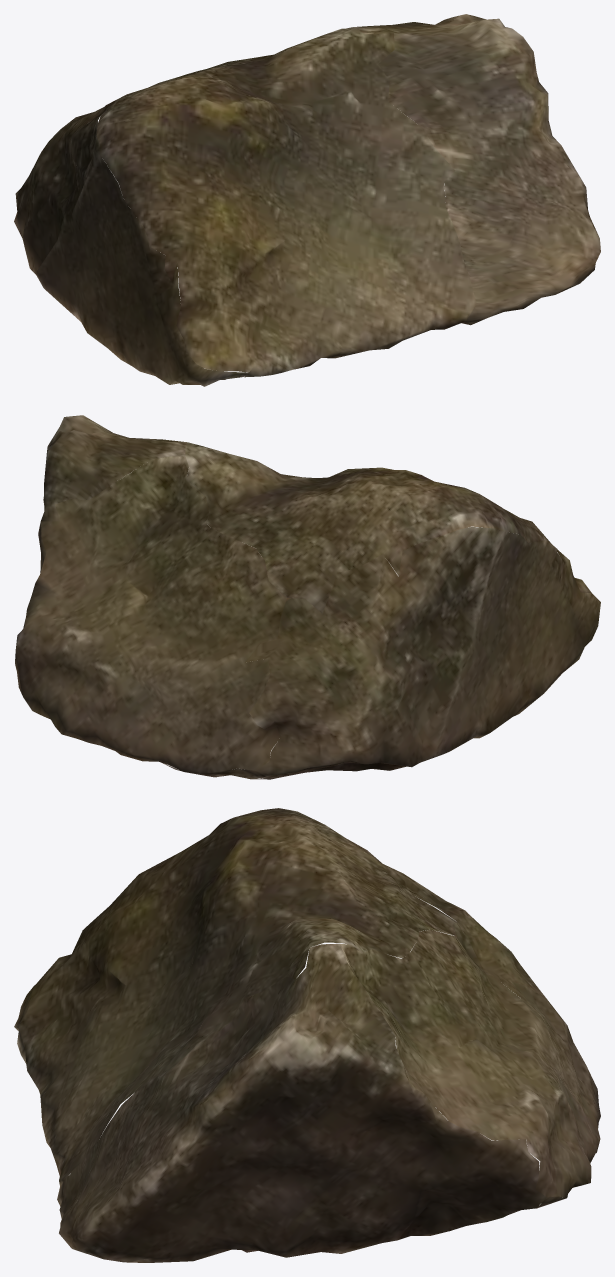
The model's file is rock-moss-set-01-rock03.glb.
3 views of the same model, one above another, from view 1: azimuth 30°, elevation 25°; view 2: azimuth 150°, elevation 25°; view 3: azimuth 270°, elevation 25° (orthographic). The views are drawn at different scales.
Parts seen in each view (by area): view 1: rock_moss_set_01_rock03; view 2: rock_moss_set_01_rock03; view 3: rock_moss_set_01_rock03.
Part boxes in pixels (x1,y1,x2,y2): rock_moss_set_01_rock03: (14,14,600,386); rock_moss_set_01_rock03: (15,415,600,779); rock_moss_set_01_rock03: (14,808,600,1262).
Size of the model in its own units: 2.11 by 1.1 by 2.08.
Materials: 1 (1 with a texture image).
